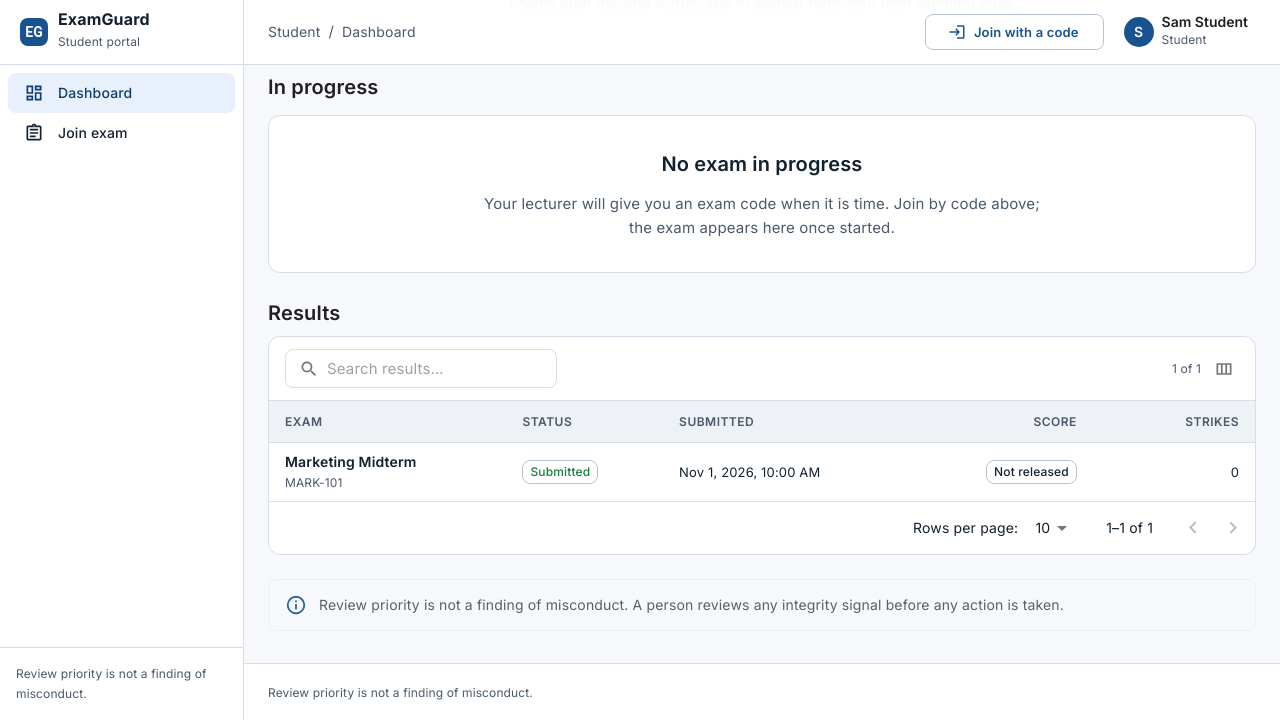
Test: StudentDashboardPage › keeps unreleased results locked with an explanatory toast
(page scrolled)
Step 1. Click the text "Marketing Midterm" → (351, 461), box [285,453,417,470]
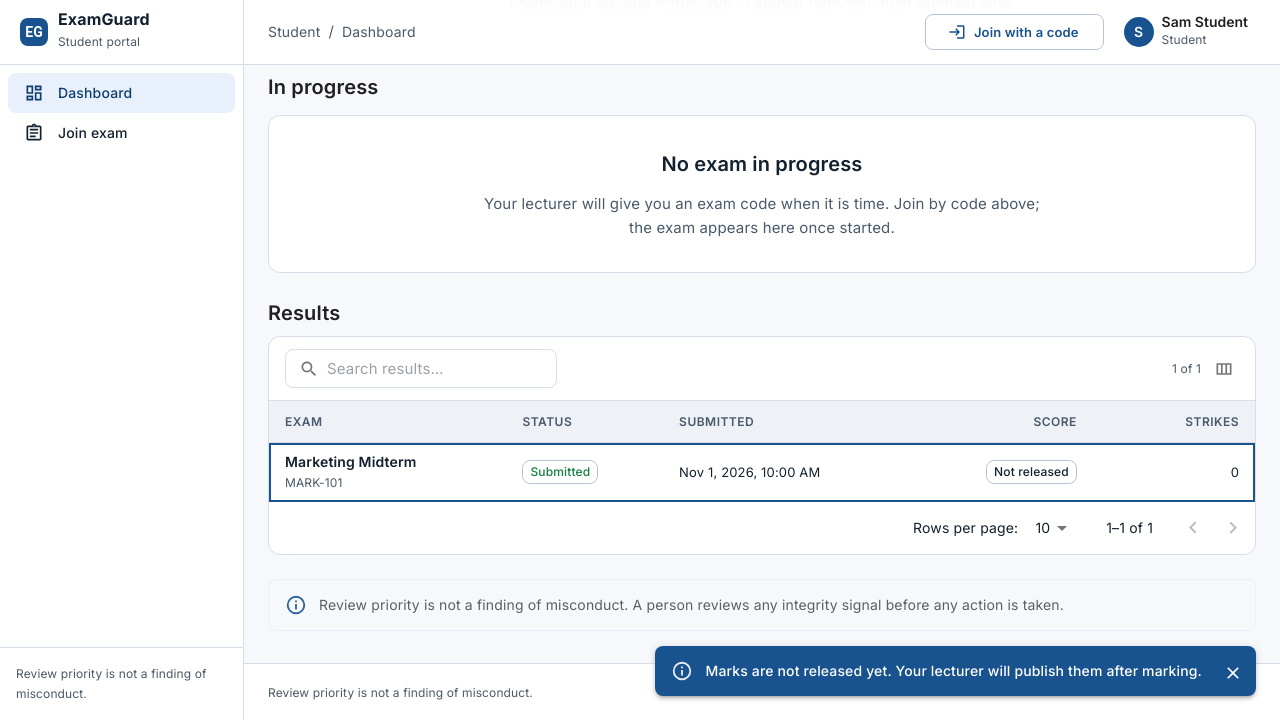
Expected: the text "Marks are not released yet" is shown, [706,662,1202,679]
